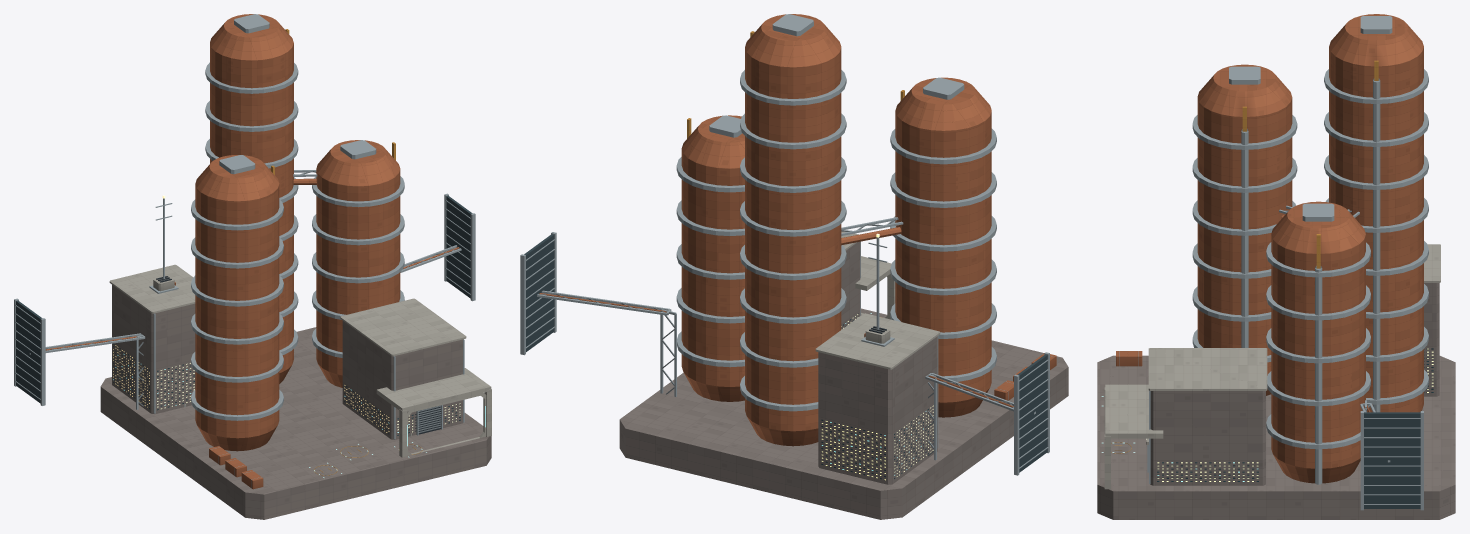
File: cinder.glb
3 renders of one model, left to right at view 1: azimuth 30°, elevation 25°; view 2: azimuth 150°, elevation 25°; view 3: azimuth 270°, elevation 25°, orthographic. The views are drawn at different scales.
Visible parts, largest first — view 1: cinder / copper, cinder / hull, cinder / metal, cinder / armor, cinder / radiator, cinder / dark, cinder / warm; view 2: cinder / copper, cinder / hull, cinder / metal, cinder / radiator, cinder / armor, cinder / warm; view 3: cinder / copper, cinder / hull, cinder / metal, cinder / armor, cinder / radiator, cinder / ochre, cinder / warm, cinder / dark.
Part boxes in pixels (<box>): cinder / copper: <box>45,14,459,489</box>; cinder / hull: <box>100,285,491,519</box>; cinder / metal: <box>14,14,475,487</box>; cinder / armor: <box>109,264,491,457</box>; cinder / radiator: <box>16,195,472,403</box>; cinder / dark: <box>114,276,460,434</box>; cinder / warm: <box>113,195,460,432</box>; cinder / copper: <box>539,14,1056,446</box>; cinder / hull: <box>619,241,1068,519</box>; cinder / metal: <box>520,14,1053,475</box>; cinder / radiator: <box>524,234,1047,472</box>; cinder / armor: <box>815,231,940,369</box>; cinder / warm: <box>821,233,933,480</box>; cinder / copper: <box>1116,14,1423,483</box>; cinder / hull: <box>1097,283,1455,519</box>; cinder / metal: <box>1119,16,1428,510</box>; cinder / armor: <box>1104,244,1440,489</box>; cinder / radiator: <box>1364,412,1420,508</box>; cinder / ochre: <box>1111,60,1378,453</box>; cinder / warm: <box>1146,348,1433,481</box>; cinder / dark: <box>1157,348,1433,481</box>.
Bounding box in the file's own units: 159 × 133 × 101.
10 materials, 4 textured.
